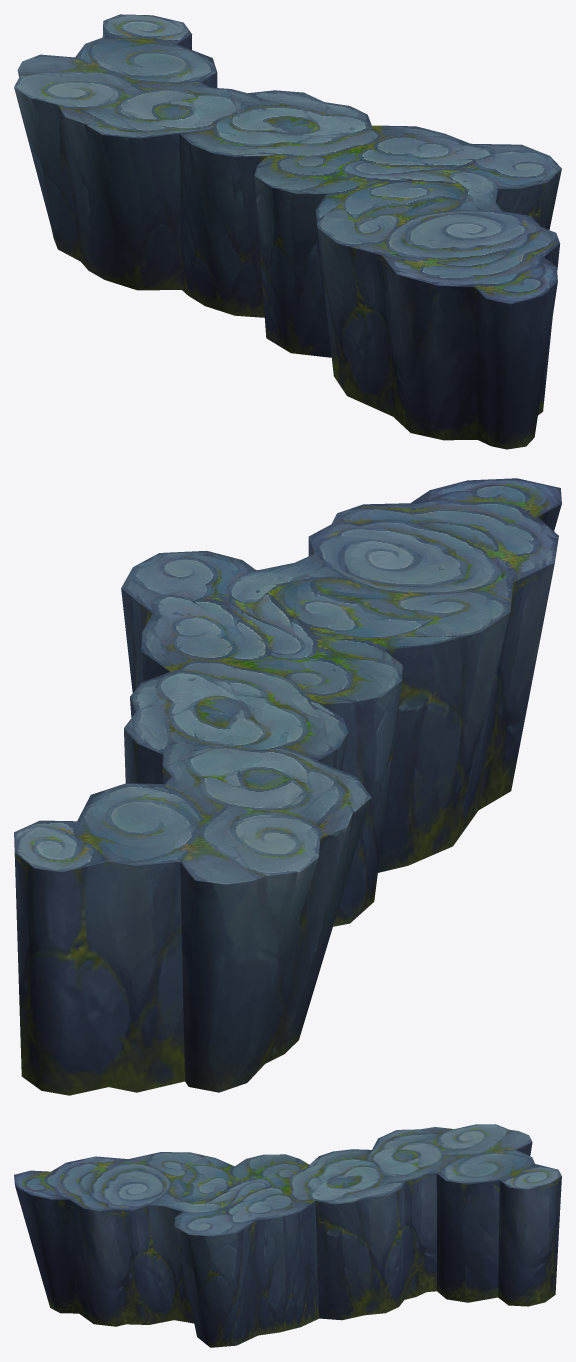
File: fb_tys_wj_04_b.FBX
3 views of the same model, one above another, from view 1: azimuth 30°, elevation 25°; view 2: azimuth 150°, elevation 25°; view 3: azimuth 270°, elevation 25° (orthographic). The views are drawn at different scales.
Visible parts, largest first — view 1: fb_tys_wj_04_b; view 2: fb_tys_wj_04_b; view 3: fb_tys_wj_04_b.
Part boxes in pixels (x1,y1,x2,y2): fb_tys_wj_04_b: [14, 14, 561, 449]; fb_tys_wj_04_b: [14, 478, 561, 1095]; fb_tys_wj_04_b: [14, 1124, 561, 1347].
Bounding box in the file's own units: 507 × 252 × 1047.
